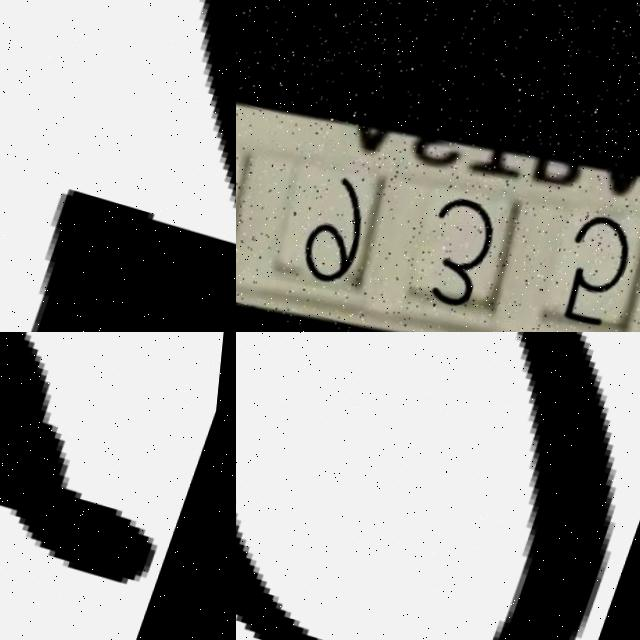3: (378, 165, 545, 332)
5: (513, 178, 640, 332), (236, 119, 280, 292)
7: (0, 0, 236, 332)
9: (253, 143, 420, 316)
O: (236, 332, 626, 640)
Z: (0, 332, 236, 628)
